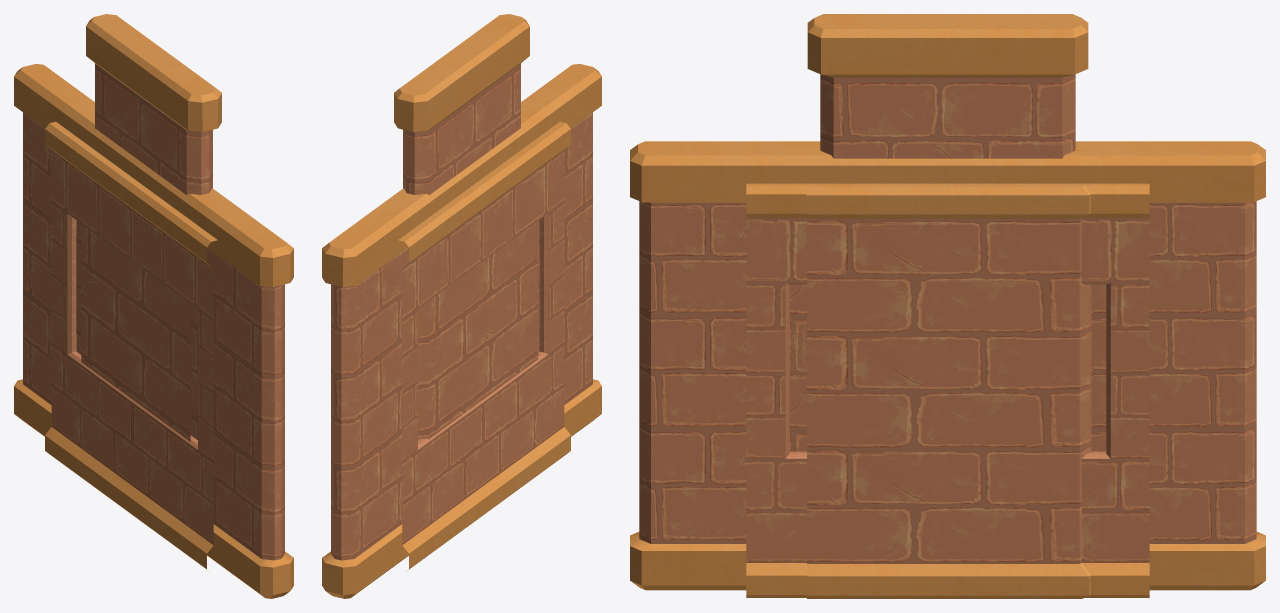
File: SM_WallSet_001.fbx
3 renders of one model, left to right at view 1: azimuth 30°, elevation 25°; view 2: azimuth 150°, elevation 25°; view 3: azimuth 270°, elevation 25°, orthographic. The views are drawn at different scales.
Parts seen in each view (by area): view 1: SM_BigWall_001, SM_Window_001, SM_DisplayWall_001, Sm_HighWall_001, SM_Wall_001; view 2: SM_BigWall_001, SM_Window_001, SM_DisplayWall_001, Sm_HighWall_001, SM_Wall_001; view 3: SM_DisplayWall_001, SM_BigWall_001, SM_Window_001, Sm_HighWall_001, SM_Wall_001.
Boxes of the visible parts, box(x1,y1,x2,y2) form: SM_BigWall_001: box(14, 64, 293, 598); SM_Window_001: box(45, 121, 217, 571); SM_DisplayWall_001: box(78, 139, 192, 441); Sm_HighWall_001: box(86, 14, 221, 194); SM_Wall_001: box(75, 110, 227, 560); SM_BigWall_001: box(322, 64, 601, 598); SM_Window_001: box(398, 121, 570, 571); SM_DisplayWall_001: box(418, 140, 539, 439); Sm_HighWall_001: box(394, 14, 529, 194); SM_Wall_001: box(396, 101, 550, 346); SM_DisplayWall_001: box(807, 183, 1091, 598); SM_BigWall_001: box(630, 141, 1265, 590); SM_Window_001: box(746, 183, 1149, 597); Sm_HighWall_001: box(807, 14, 1088, 158); SM_Wall_001: box(760, 141, 1105, 451).
Size of the model in its own units: 55.87 by 449 by 454.
